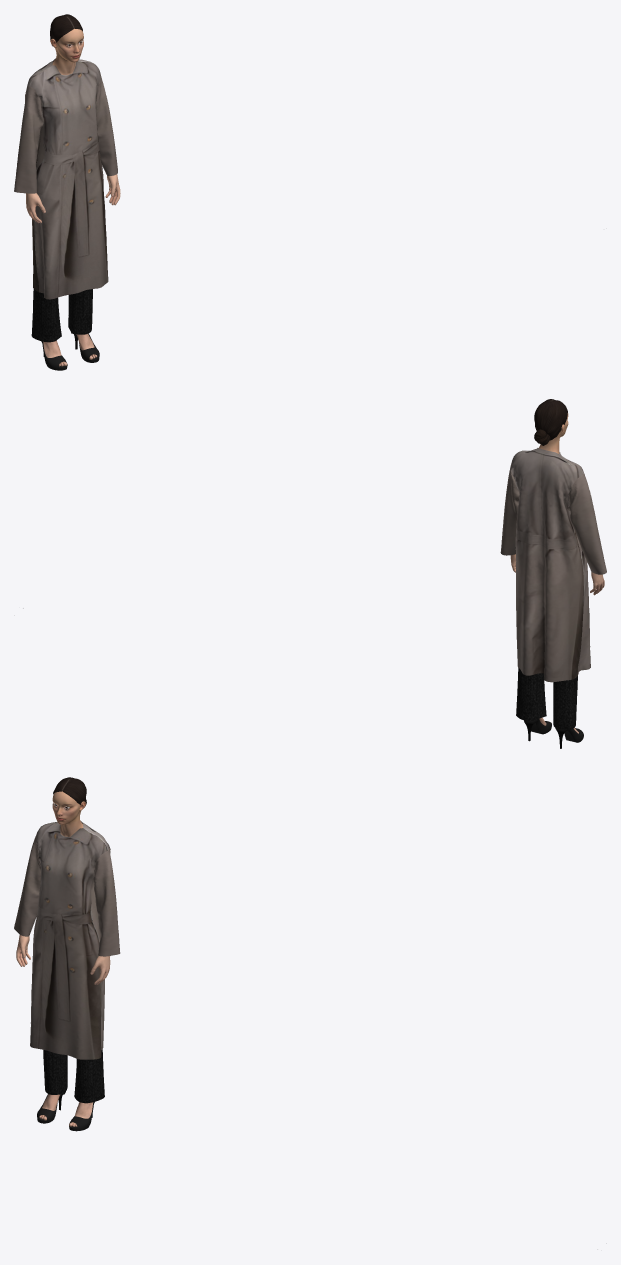
File: Maestra1Keiry.glb
The picture shows the model from 3 angles, top to bottom: view 1: azimuth 30°, elevation 25°; view 2: azimuth 150°, elevation 25°; view 3: azimuth 330°, elevation 25°; orthographic projection.
Visible parts, largest first — view 1: manto boland2, body (×3), hair_Shape; view 2: manto boland2, hair_Shape; view 3: manto boland2, body (×2).
Boxes of the visible parts, x1,y1,x2,y2 form: manto boland2: (14, 58, 117, 342); body (×3): (26, 28, 120, 366); hair_Shape: (50, 14, 82, 46); manto boland2: (500, 448, 606, 729); hair_Shape: (534, 399, 567, 445); manto boland2: (14, 821, 120, 1103); body (×2): (16, 791, 110, 984).
Bounding box in the file's own units: 3.37 × 1.86 × 0.2976.
Materials: 20 (8 with a texture image).
